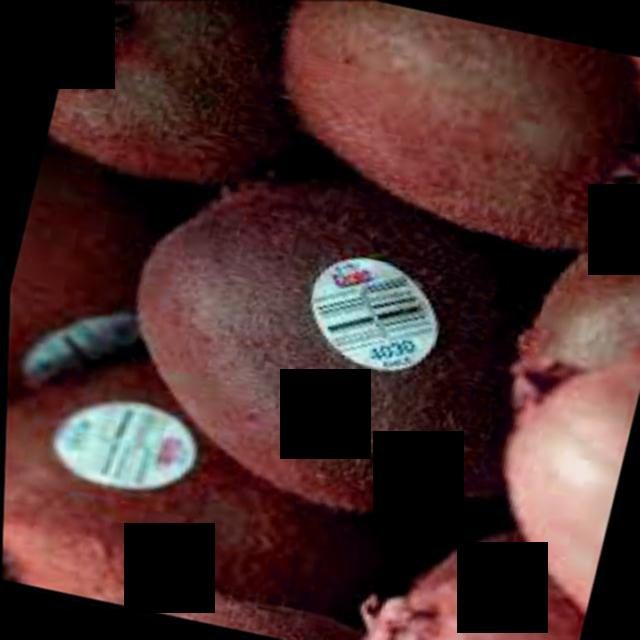kiwi: (88, 148, 557, 546), (1, 330, 422, 640), (243, 2, 640, 272), (38, 2, 328, 210), (468, 347, 640, 625), (354, 493, 602, 640)
